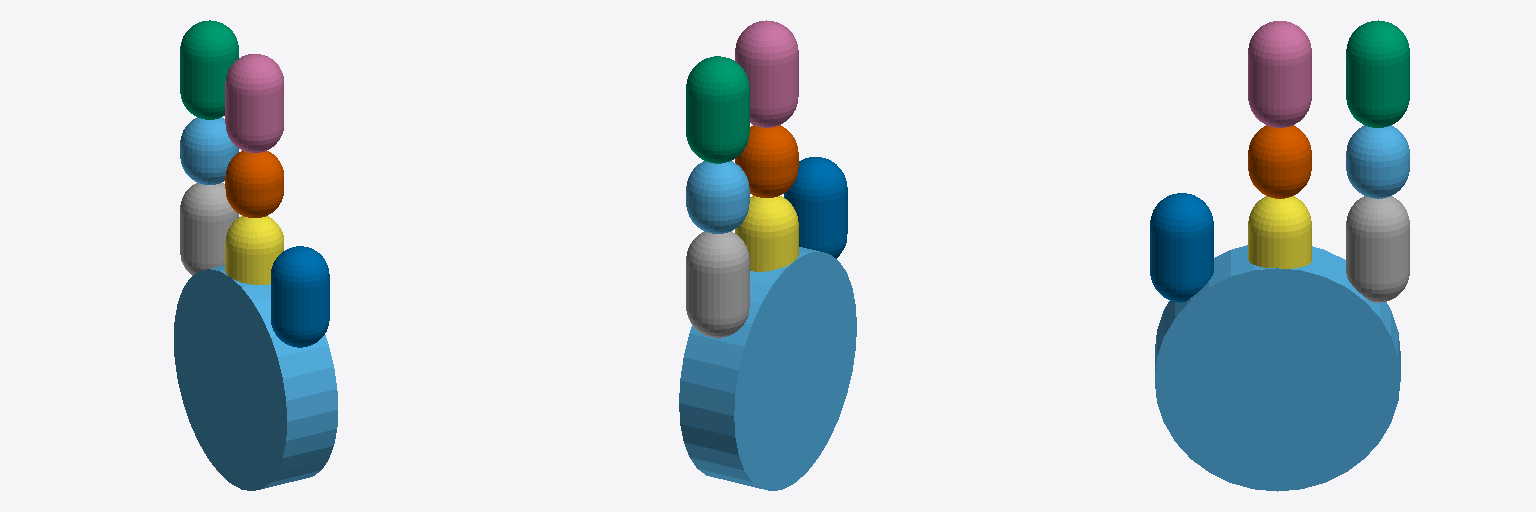
robot.urdf — DexterousHand:
<?xml version="1.0"?>
<robot name="DexterousHand">


    <link name="world"/>
    <joint name="world_to_palm" type="fixed">
        <parent link="world"/>
        <child link="palm"/>
        <origin xyz="0 0 0" rpy="0 0 0"/>
    </joint>
    <link name="palm">
        <inertial>
            <origin xyz="0 0 0.057" rpy="0 0 0"/>
            <mass value="0.30212892864"/>
            <inertia ixx="0.00049080844457568" ixy="0.0" ixz="0.0" iyy="0.00026746366246427523" iyz="0.0" izz="0.00026746366246427523"/>
        </inertial>
        <visual>
            <origin xyz="0 0 0.057" rpy="1.5708 0 1.5708"/>
            <geometry>
                <cylinder radius="0.057" length="0.0296"/>
            </geometry>
            <material name="default"/>
        </visual>
        <collision>
            <origin xyz="0 0 0.057" rpy="1.5708 0 1.5708"/>
            <geometry>
                <cylinder radius="0.057" length="0.0296"/>
            </geometry>
        </collision>
    </link>

    
    <joint name="thumb_joint1" type="revolute">
        <parent link="palm"/>
        <child link="thumb_base"/>
        <origin xyz="0.0 0.0 0.0" rpy="0.0 0.0 0.0"/>
        <axis xyz="1 0 0"/>
        <limit lower="0.0" upper="0.0" effort="1.0" velocity="1.0"/>
    </joint>

    <link name="thumb_base"></link>

    <joint name="thumb_joint2" type="revolute">
        <parent link="thumb_base"/>
        <child link="thumb_proximal"/>
        <origin xyz="0.0 0.0 0.0" rpy="0.0 0.0 0.0"/>
        <axis xyz="0 1 0"/>
        <limit lower="0.0" upper="0.0" effort="1.0" velocity="1.0"/>
    </joint>

    <link name="thumb_proximal">
    </link>

    <joint name="thumb_joint3" type="revolute">
        <parent link="thumb_proximal"/>
        <child link="thumb_knuckle"/>
        <origin xyz="0.0 0.0 0.0" rpy="0.0 0.0 0.0"/>
        <axis xyz="1 0 0"/>
        <limit lower="0.0" upper="0.0" effort="1.0" velocity="1.0"/>
    </joint>

    <link name="thumb_knuckle"></link>

    <joint name="thumb_joint4" type="revolute">
        <parent link="thumb_knuckle"/>
        <child link="thumb_middle"/>
        <origin xyz="0 0 0" rpy="0 0 0"/> 
        <axis xyz="0 1 0"/>
        <limit lower="0.0" upper="0.0" effort="1.0" velocity="1.0"/>
    </joint>

    <link name="thumb_middle">
    </link>

    <joint name="thumb_joint5" type="revolute">
        <parent link="thumb_middle"/>
        <child link="thumb_distal"/>
        <origin xyz="0 0 0" rpy="0 0 0"/> 
        <axis xyz="0 1 0"/>
        <limit lower="0.0" upper="0.0" effort="1.0" velocity="1.0"/>
    </joint>

    <link name="thumb_distal">
    </link>

    
    <joint name="index_joint1" type="revolute">
        <parent link="palm"/>
        <child link="index_proximal"/>
        <origin xyz="0.0 0.0465 0.091" rpy="0.0 0.0 0.0"/>
        <axis xyz="0 1 0"/>
        <limit lower="-0.314" upper="2.23" effort="1.0" velocity="1.0"/>
    </joint>

    <link name="index_proximal">
        <inertial>
            <origin xyz="0 0 0.02655" rpy="0 0 0"/>
            <mass value="0.036540024998400006"/>
            <inertia ixx="1.058665009272394e-05" ixy="0.0" ixz="0.0" 
            iyy="1.058665009272394e-05" iyz="0.0" izz="4.001863537824769e-06"/>
        </inertial>
        <visual>
            <origin xyz="0 0 0.02655" rpy="0 0 0"/>
            <geometry>
                <cylinder radius="0.0148" length="0.0235"/>
            </geometry>
            <material name="default"/>
        </visual>
        <visual>
            <origin xyz="0 0 0.0148" rpy="0 0 0"/>
            <geometry>
                <sphere radius="0.0148"/>
            </geometry>
            <material name="default"/>
        </visual>
        <visual>
            <origin xyz="0 0 0.0383" rpy="0 0 0"/>
            <geometry>
                <sphere radius="0.0148"/>
            </geometry>
            <material name="default"/>
        </visual>
        <collision>
            <origin xyz="0 0 0.02655" rpy="0 0 0"/>
            <geometry>
                <cylinder radius="0.0148" length="0.0235"/>
            </geometry>
        </collision>
        <collision>
            <origin xyz="0 0 0.0148" rpy="0 0 0"/>
            <geometry>
                <sphere radius="0.0148"/>
            </geometry>
        </collision>
        <collision>
            <origin xyz="0 0 0.0383" rpy="0 0 0"/>
            <geometry>
                <sphere radius="0.0148"/>
            </geometry>
        </collision>
    </link>

    <joint name="index_joint2" type="revolute">
        <parent link="index_proximal"/>
        <child link="index_dummy"/>
        <origin xyz="0.0 0.0 0.038" rpy="0.0 0.0 0.0"/>
        <axis xyz="1 0 0"/>
        <limit lower="-1.047" upper="1.047" effort="1.0" velocity="1.0"/>
    </joint>

    <link name="index_dummy"></link>

    <joint name="index_joint3" type="revolute">
        <parent link="index_dummy"/>
        <child link="index_middle"/>
        <origin xyz="0 0 0.015100000000000002" rpy="0 0 0"/>
        <axis xyz="0 1 0"/>
        <limit lower="-0.506" upper="1.885" effort="1.0" velocity="1.0"/>
    </joint>

    <link name="index_middle">
        <inertial>
            <origin xyz="0 0 0.01805" rpy="0 0 0"/>
            <mass value="0.0248417119104"/>
            <inertia ixx="4.058162759109537e-06" ixy="0.0" ixz="0.0" 
            iyy="4.058162759109537e-06" iyz="0.0" izz="2.7206642884270085e-06"/>
        </inertial>
        <visual>
            <origin xyz="0 0 0.01805" rpy="0 0 0"/>
            <geometry>
                <cylinder radius="0.0148" length="0.006499999999999999"/>
            </geometry>
            <material name="default"/>
        </visual>
        <visual>
            <origin xyz="0 0 0.0148" rpy="0 0 0"/>
            <geometry>
                <sphere radius="0.0148"/>
            </geometry>
            <material name="default"/>
        </visual>
        <visual>
            <origin xyz="0 0 0.0213" rpy="0 0 0"/>
            <geometry>
                <sphere radius="0.0148"/>
            </geometry>
            <material name="default"/>
        </visual>
        <collision>
            <origin xyz="0 0 0.01805" rpy="0 0 0"/>
            <geometry>
                <cylinder radius="0.0148" length="0.006499999999999999"/>
            </geometry>
        </collision>
        <collision>
            <origin xyz="0 0 0.0148" rpy="0 0 0"/>
            <geometry>
                <sphere radius="0.0148"/>
            </geometry>
        </collision>
        <collision>
            <origin xyz="0 0 0.0213" rpy="0 0 0"/>
            <geometry>
                <sphere radius="0.0148"/>
            </geometry>
        </collision>
    </link>

    <joint name="index_joint4" type="revolute">
        <parent link="index_middle"/>
        <child link="index_distal"/>
        <origin xyz="0 0 0.0361" rpy="0 0 0"/> 
        <axis xyz="0 1 0"/>
        <limit lower="-0.366" upper="2.042" effort="1.0" velocity="1.0"/>
    </joint>

    <link name="index_distal">
        <inertial>
            <origin xyz="0 0 0.026" rpy="0 0 0"/>
            <mass value="0.035783075328"/>
            <inertia ixx="1.002260084553728e-05" ixy="0.0" ixz="0.0" 
            iyy="1.002260084553728e-05" iyz="0.0" izz="3.91896240992256e-06"/>
        </inertial>
        <visual>
            <origin xyz="0 0 0.026" rpy="0 0 0"/>
            <geometry>
                <cylinder radius="0.0148" length="0.022399999999999996"/>
            </geometry>
            <material name="default"/>
        </visual>
        <visual>
            <origin xyz="0 0 0.0148" rpy="0 0 0"/>
            <geometry>
                <sphere radius="0.0148"/>
            </geometry>
            <material name="default"/>
        </visual>
        <visual>
            <origin xyz="0 0 0.0372" rpy="0 0 0"/>
            <geometry>
                <sphere radius="0.0148"/>
            </geometry>
            <material name="default"/>
        </visual>
        <collision>
            <origin xyz="0 0 0.026" rpy="0 0 0"/>
            <geometry>
                <cylinder radius="0.0148" length="0.022399999999999996"/>
            </geometry>
        </collision>
        <collision>
            <origin xyz="0 0 0.0148" rpy="0 0 0"/>
            <geometry>
                <sphere radius="0.0148"/>
            </geometry>
        </collision>
        <collision>
            <origin xyz="0 0 0.0372" rpy="0 0 0"/>
            <geometry>
                <sphere radius="0.0148"/>
            </geometry>
        </collision>
    </link>

    
    <joint name="middle_joint1" type="revolute">
        <parent link="palm"/>
        <child link="middle_proximal"/>
        <origin xyz="0.0 0.0011 0.091" rpy="0.0 0.0 0.0"/>
        <axis xyz="0 1 0"/>
        <limit lower="-0.314" upper="2.23" effort="1.0" velocity="1.0"/>
    </joint>

    <link name="middle_proximal">
        <inertial>
            <origin xyz="0 0 0.02655" rpy="0 0 0"/>
            <mass value="0.036540024998400006"/>
            <inertia ixx="1.058665009272394e-05" ixy="0.0" ixz="0.0" 
            iyy="1.058665009272394e-05" iyz="0.0" izz="4.001863537824769e-06"/>
        </inertial>
        <visual>
            <origin xyz="0 0 0.02655" rpy="0 0 0"/>
            <geometry>
                <cylinder radius="0.0148" length="0.0235"/>
            </geometry>
            <material name="default"/>
        </visual>
        <visual>
            <origin xyz="0 0 0.0148" rpy="0 0 0"/>
            <geometry>
                <sphere radius="0.0148"/>
            </geometry>
            <material name="default"/>
        </visual>
        <visual>
            <origin xyz="0 0 0.0383" rpy="0 0 0"/>
            <geometry>
                <sphere radius="0.0148"/>
            </geometry>
            <material name="default"/>
        </visual>
        <collision>
            <origin xyz="0 0 0.02655" rpy="0 0 0"/>
            <geometry>
                <cylinder radius="0.0148" length="0.0235"/>
            </geometry>
        </collision>
        <collision>
            <origin xyz="0 0 0.0148" rpy="0 0 0"/>
            <geometry>
                <sphere radius="0.0148"/>
            </geometry>
        </collision>
        <collision>
            <origin xyz="0 0 0.0383" rpy="0 0 0"/>
            <geometry>
                <sphere radius="0.0148"/>
            </geometry>
        </collision>
    </link>

    <joint name="middle_joint2" type="revolute">
        <parent link="middle_proximal"/>
        <child link="middle_dummy"/>
        <origin xyz="0.0 0.0 0.038" rpy="0.0 0.0 0.0"/>
        <axis xyz="1 0 0"/>
        <limit lower="-1.047" upper="1.047" effort="1.0" velocity="1.0"/>
    </joint>

    <link name="middle_dummy"></link>

    <joint name="middle_joint3" type="revolute">
        <parent link="middle_dummy"/>
        <child link="middle_middle"/>
        <origin xyz="0 0 0.015100000000000002" rpy="0 0 0"/>
        <axis xyz="0 1 0"/>
        <limit lower="-0.506" upper="1.885" effort="1.0" velocity="1.0"/>
    </joint>

    <link name="middle_middle">
        <inertial>
            <origin xyz="0 0 0.01805" rpy="0 0 0"/>
            <mass value="0.0248417119104"/>
            <inertia ixx="4.058162759109537e-06" ixy="0.0" ixz="0.0" 
            iyy="4.058162759109537e-06" iyz="0.0" izz="2.7206642884270085e-06"/>
        </inertial>
        <visual>
            <origin xyz="0 0 0.01805" rpy="0 0 0"/>
            <geometry>
                <cylinder radius="0.0148" length="0.006499999999999999"/>
            </geometry>
            <material name="default"/>
        </visual>
        <visual>
            <origin xyz="0 0 0.0148" rpy="0 0 0"/>
            <geometry>
                <sphere radius="0.0148"/>
            </geometry>
            <material name="default"/>
        </visual>
        <visual>
            <origin xyz="0 0 0.0213" rpy="0 0 0"/>
            <geometry>
                <sphere radius="0.0148"/>
            </geometry>
            <material name="default"/>
        </visual>
        <collision>
            <origin xyz="0 0 0.01805" rpy="0 0 0"/>
            <geometry>
                <cylinder radius="0.0148" length="0.006499999999999999"/>
            </geometry>
        </collision>
        <collision>
            <origin xyz="0 0 0.0148" rpy="0 0 0"/>
            <geometry>
                <sphere radius="0.0148"/>
            </geometry>
        </collision>
        <collision>
            <origin xyz="0 0 0.0213" rpy="0 0 0"/>
            <geometry>
                <sphere radius="0.0148"/>
            </geometry>
        </collision>
    </link>

    <joint name="middle_joint4" type="revolute">
        <parent link="middle_middle"/>
        <child link="middle_distal"/>
        <origin xyz="0 0 0.0361" rpy="0 0 0"/> 
        <axis xyz="0 1 0"/>
        <limit lower="-0.366" upper="2.042" effort="1.0" velocity="1.0"/>
    </joint>

    <link name="middle_distal">
        <inertial>
            <origin xyz="0 0 0.026" rpy="0 0 0"/>
            <mass value="0.035783075328"/>
            <inertia ixx="1.002260084553728e-05" ixy="0.0" ixz="0.0" 
            iyy="1.002260084553728e-05" iyz="0.0" izz="3.91896240992256e-06"/>
        </inertial>
        <visual>
            <origin xyz="0 0 0.026" rpy="0 0 0"/>
            <geometry>
                <cylinder radius="0.0148" length="0.022399999999999996"/>
            </geometry>
            <material name="default"/>
        </visual>
        <visual>
            <origin xyz="0 0 0.0148" rpy="0 0 0"/>
            <geometry>
                <sphere radius="0.0148"/>
            </geometry>
            <material name="default"/>
        </visual>
        <visual>
            <origin xyz="0 0 0.0372" rpy="0 0 0"/>
            <geometry>
                <sphere radius="0.0148"/>
            </geometry>
            <material name="default"/>
        </visual>
        <collision>
            <origin xyz="0 0 0.026" rpy="0 0 0"/>
            <geometry>
                <cylinder radius="0.0148" length="0.022399999999999996"/>
            </geometry>
        </collision>
        <collision>
            <origin xyz="0 0 0.0148" rpy="0 0 0"/>
            <geometry>
                <sphere radius="0.0148"/>
            </geometry>
        </collision>
        <collision>
            <origin xyz="0 0 0.0372" rpy="0 0 0"/>
            <geometry>
                <sphere radius="0.0148"/>
            </geometry>
        </collision>
    </link>

    
    <joint name="ring_joint1" type="revolute">
        <parent link="palm"/>
        <child link="ring_proximal"/>
        <origin xyz="0.0 0.0 0.0" rpy="0.0 0.0 0.0"/>
        <axis xyz="1 0 0"/>
        <limit lower="0.0" upper="0.0" effort="1.0" velocity="1.0"/>
    </joint>

    <link name="ring_proximal">
    </link>

    <joint name="ring_joint2" type="revolute">
        <parent link="ring_proximal"/>
        <child link="ring_dummy"/>
        <origin xyz="0.0 0.0 0.0" rpy="0.0 0.0 0.0"/>
        <axis xyz="0 1 0"/>
        <limit lower="0.0" upper="0.0" effort="1.0" velocity="1.0"/>
    </joint>

    <link name="ring_dummy"></link>

    <joint name="ring_joint3" type="revolute">
        <parent link="ring_dummy"/>
        <child link="ring_middle"/>
        <origin xyz="0 0 0" rpy="0 0 0"/>
        <axis xyz="0 1 0"/>
        <limit lower="0.0" upper="0.0" effort="1.0" velocity="1.0"/>
    </joint>

    <link name="ring_middle">
    </link>

    <joint name="ring_joint4" type="revolute">
        <parent link="ring_middle"/>
        <child link="ring_distal"/>
        <origin xyz="0 0 0" rpy="0 0 0"/> 
        <axis xyz="0 1 0"/>
        <limit lower="0.0" upper="0.0" effort="1.0" velocity="1.0"/>
    </joint>

    <link name="ring_distal">
    </link>

    
    <joint name="little_joint0" type="revolute">
        <parent link="palm"/>
        <child link="little_base"/>
        <origin xyz="0.0 0.0 0.0" rpy="0.0 0.0 0.0"/>
        <axis xyz="0 1 0"/>
        <limit lower="0.0" upper="0.0" effort="1.0" velocity="1.0"/>
    </joint>

    <link name="little_base"></link>

    <joint name="little_joint1" type="revolute">
        <parent link="little_base"/>
        <child link="little_proximal"/>
        <origin xyz="0.0 -0.0443 0.091" rpy="-0.0 -0.0 -0.0"/>
        <axis xyz="0 1 0"/>
        <limit lower="-0.314" upper="2.23" effort="1.0" velocity="1.0"/>
    </joint>

    <link name="little_proximal">
        <inertial>
            <origin xyz="0 0 0.02655" rpy="0 0 0"/>
            <mass value="0.036540024998400006"/>
            <inertia ixx="1.058665009272394e-05" ixy="0.0" ixz="0.0" 
            iyy="1.058665009272394e-05" iyz="0.0" izz="4.001863537824769e-06"/>
        </inertial>
        <visual>
            <origin xyz="0 0 0.02655" rpy="0 0 0"/>
            <geometry>
                <cylinder radius="0.0148" length="0.0235"/>
            </geometry>
            <material name="default"/>
        </visual>
        <visual>
            <origin xyz="0 0 0.0148" rpy="0 0 0"/>
            <geometry>
                <sphere radius="0.0148"/>
            </geometry>
            <material name="default"/>
        </visual>
        <visual>
            <origin xyz="0 0 0.0383" rpy="0 0 0"/>
            <geometry>
                <sphere radius="0.0148"/>
            </geometry>
            <material name="default"/>
        </visual>
        <collision>
            <origin xyz="0 0 0.02655" rpy="0 0 0"/>
            <geometry>
                <cylinder radius="0.0148" length="0.0235"/>
            </geometry>
        </collision>
        <collision>
            <origin xyz="0 0 0.0148" rpy="0 0 0"/>
            <geometry>
                <sphere radius="0.0148"/>
            </geometry>
        </collision>
        <collision>
            <origin xyz="0 0 0.0383" rpy="0 0 0"/>
            <geometry>
                <sphere radius="0.0148"/>
            </geometry>
        </collision>
    </link>

    <joint name="little_joint2" type="revolute">
        <parent link="little_proximal"/>
        <child link="little_dummy"/>
        <origin xyz="0.0 0.0 0.038" rpy="0.0 0.0 0.0"/>
        <axis xyz="0 1 0"/>
        <limit lower="0.0" upper="0.0" effort="1.0" velocity="1.0"/>
    </joint>

    <link name="little_dummy"></link>

    <joint name="little_joint3" type="revolute">
        <parent link="little_dummy"/>
        <child link="little_middle"/>
        <origin xyz="0 0 0.015100000000000002" rpy="0 0 0"/>
        <axis xyz="0 1 0"/>
        <limit lower="0.0" upper="0.0" effort="1.0" velocity="1.0"/>
    </joint>

    <link name="little_middle">
    </link>

    <joint name="little_joint4" type="revolute">
        <parent link="little_middle"/>
        <child link="little_distal"/>
        <origin xyz="0 0 0" rpy="0 0 0"/>
        <axis xyz="0 1 0"/>
        <limit lower="0.0" upper="0.0" effort="1.0" velocity="1.0"/>
    </joint>

    <link name="little_distal">
    </link>

</robot>

--- What the picture shows (computed from the rendered views, not written in the file) ---
Views: 3 orthographic renders of the robot side by side, from view 1: azimuth 30°, elevation 25°; view 2: azimuth 150°, elevation 25°; view 3: azimuth 270°, elevation 25°.
Model DexterousHand with 24 links and 23 joints (22 revolute, 1 fixed), rooted at world, posed every joint at zero.
Links seen in each view (by area): view 1: palm, little_proximal, middle_distal, index_distal, index_proximal, middle_middle, middle_proximal, index_middle; view 2: palm, index_proximal, index_distal, middle_distal, little_proximal, index_middle, middle_proximal, middle_middle; view 3: palm, middle_distal, index_distal, little_proximal, index_proximal, middle_proximal, index_middle, middle_middle.
Boxes of the visible links, box(x1,y1,x2,y2) form: palm: box(174, 265, 337, 490); little_proximal: box(271, 246, 329, 347); middle_distal: box(225, 54, 283, 152); index_distal: box(180, 20, 238, 119); index_proximal: box(180, 183, 238, 275); middle_middle: box(225, 150, 283, 217); middle_proximal: box(225, 216, 283, 284); index_middle: box(180, 117, 238, 184); palm: box(679, 247, 856, 490); index_proximal: box(686, 231, 749, 337); index_distal: box(686, 56, 749, 163); middle_distal: box(735, 20, 798, 127); little_proximal: box(784, 157, 847, 258); index_middle: box(686, 161, 749, 233); middle_proximal: box(735, 196, 798, 271); middle_middle: box(735, 125, 798, 197); palm: box(1155, 245, 1400, 491); middle_distal: box(1248, 21, 1311, 127); index_distal: box(1346, 20, 1409, 127); little_proximal: box(1150, 193, 1213, 302); index_proximal: box(1346, 196, 1409, 302); middle_proximal: box(1248, 196, 1311, 268); index_middle: box(1346, 125, 1409, 198); middle_middle: box(1248, 125, 1311, 198).
Bounding box of the posed robot: 0.0296 × 0.1204 × 0.2322 m (x, y, z).
Geometry: primitives only (box / cylinder / sphere), no mesh files.
